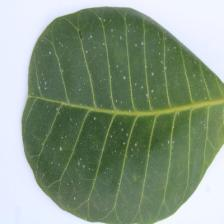red rust: (22, 6, 224, 224)
